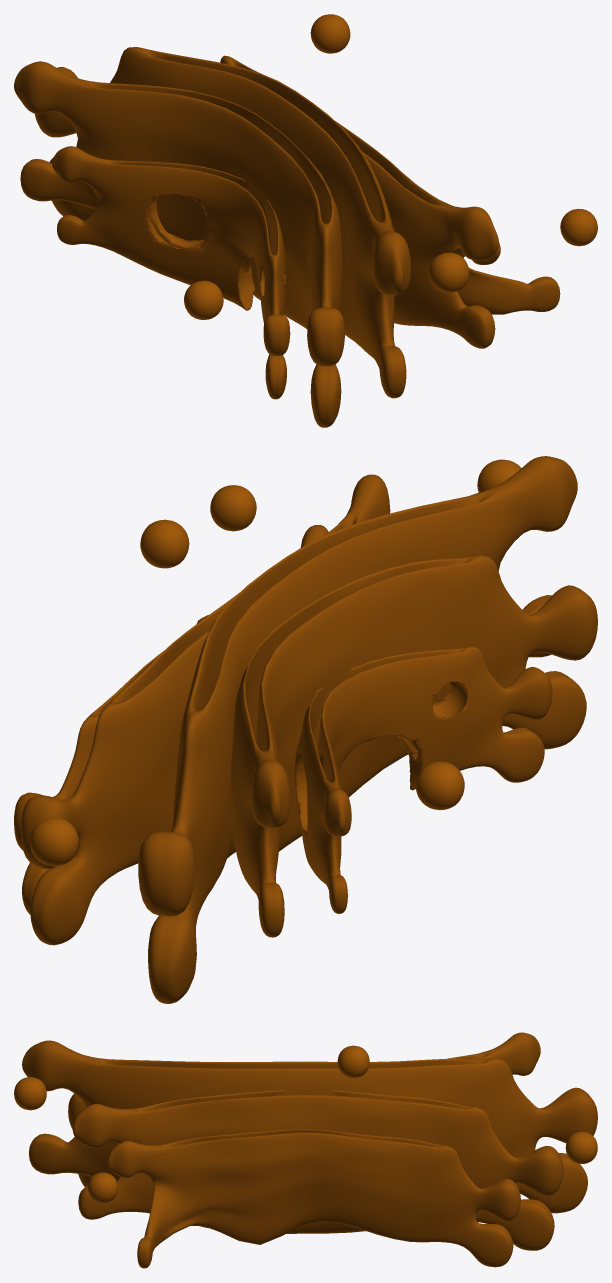
File: Golgi Apparatus.fbx
3 renders of one model, top to bottom at view 1: azimuth 30°, elevation 25°; view 2: azimuth 150°, elevation 25°; view 3: azimuth 270°, elevation 25°, orthographic. The views are drawn at different scales.
Parts seen in each view (by area): view 1: pCube2, pCube1, pCube6, pCube7, pCube8, pCube10, pCube11, pCube13, pCube9; view 2: pCube2, pCube1, pCube6, pCube7, pCube8, pCube12, pCube11, pCube13, pCube9, pCube10; view 3: pCube8, pCube1, pCube7, pCube2, pCube10, pCube12, pCube11, pCube9.
Part boxes in pixels (x1=…): pCube2: x1=14, y1=61, x2=344, y2=427; pCube1: x1=35, y1=47, x2=411, y2=398; pCube6: x1=52, y1=146, x2=290, y2=399; pCube7: x1=220, y1=55, x2=498, y2=348; pCube8: x1=454, y1=243, x2=560, y2=314; pCube10: x1=429, y1=252, x2=469, y2=292; pCube11: x1=310, y1=14, x2=350, y2=53; pCube13: x1=184, y1=280, x2=223, y2=319; pCube9: x1=560, y1=208, x2=597, y2=246; pCube2: x1=230, y1=555, x2=597, y2=937; pCube1: x1=138, y1=456, x2=577, y2=1003; pCube6: x1=294, y1=646, x2=552, y2=913; pCube7: x1=21, y1=474, x2=390, y2=945; pCube8: x1=14, y1=525, x2=328, y2=914; pCube12: x1=29, y1=817, x2=78, y2=866; pCube11: x1=140, y1=519, x2=189, y2=568; pCube13: x1=415, y1=761, x2=464, y2=810; pCube9: x1=210, y1=485, x2=256, y2=531; pCube10: x1=477, y1=459, x2=521, y2=492; pCube8: x1=107, y1=1129, x2=520, y2=1268; pCube1: x1=22, y1=1040, x2=597, y2=1213; pCube7: x1=72, y1=1090, x2=563, y2=1250; pCube2: x1=68, y1=1032, x2=540, y2=1187; pCube10: x1=14, y1=1077, x2=46, y2=1110; pCube12: x1=565, y1=1131, x2=597, y2=1163; pCube11: x1=337, y1=1045, x2=369, y2=1077; pCube9: x1=87, y1=1172, x2=117, y2=1203.
Bounding box in the file's own units: 16.47 × 12.77 × 31.14.
